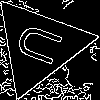U: (14, 20, 73, 71)
